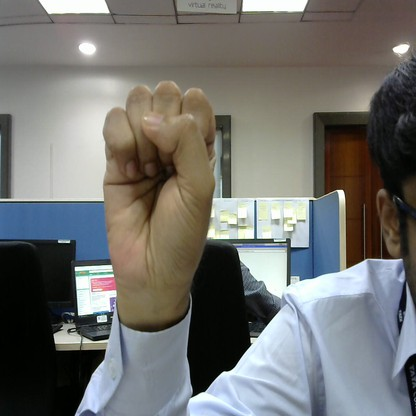s: (94, 77, 226, 303)
